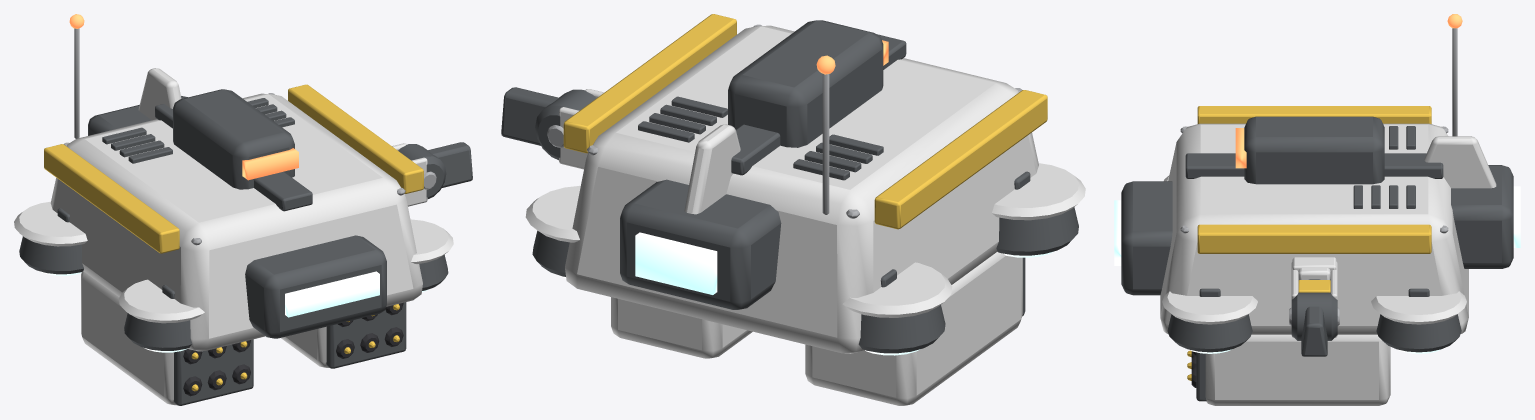
The model's file is missile.glb.
3 views of the same model, side by side, from view 1: azimuth 30°, elevation 25°; view 2: azimuth 150°, elevation 25°; view 3: azimuth 270°, elevation 25° (orthographic). The views are drawn at different scales.
Visible parts, largest first — view 1: Hull, Barrel, Turret, LegUpper, LegLower; view 2: Hull, Barrel, Turret, LegUpper, LegLower; view 3: Hull, Barrel, Turret, LegUpper, LegLower.
Boxes of the visible parts, x1,y1,x2,y2 form: Hull: [14, 14, 453, 352]; Barrel: [81, 272, 406, 405]; Turret: [173, 89, 298, 189]; LegUpper: [392, 143, 446, 206]; LegLower: [427, 142, 472, 187]; Hull: [525, 14, 1085, 355]; Barrel: [611, 252, 1025, 405]; Turret: [728, 20, 888, 147]; LegUpper: [535, 89, 604, 169]; LegLower: [501, 87, 558, 145]; Hull: [1114, 14, 1520, 353]; Barrel: [1187, 334, 1390, 405]; Turret: [1235, 116, 1384, 184]; LegUpper: [1289, 257, 1339, 340]; LegLower: [1298, 268, 1330, 356].
Bounding box in the file's own units: 0.7772 × 0.558 × 0.694.
